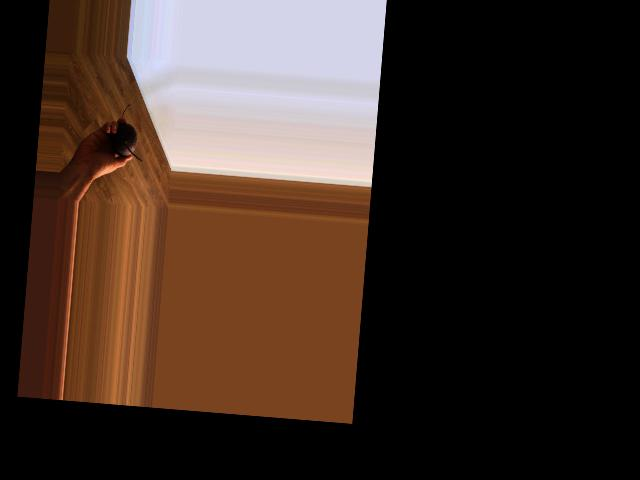beet: (109, 101, 145, 160)
